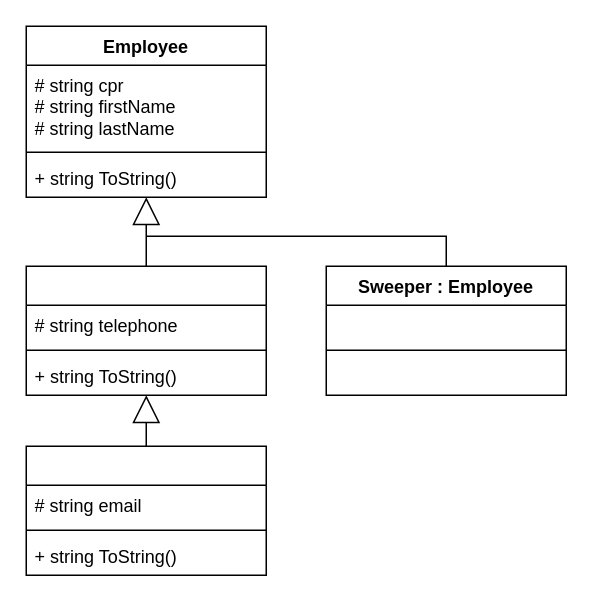
The diagram is 593 pixels wide and 606 high, and some of its shapes have lost their labels. The shapes that lost their labels are listed below. From the top down, each one's box as (x1, y1, x2, y2) in pixels, then its label:
(25, 265, 266, 395): Manager : Employee
(25, 445, 266, 575): ProjectManager : Manager
